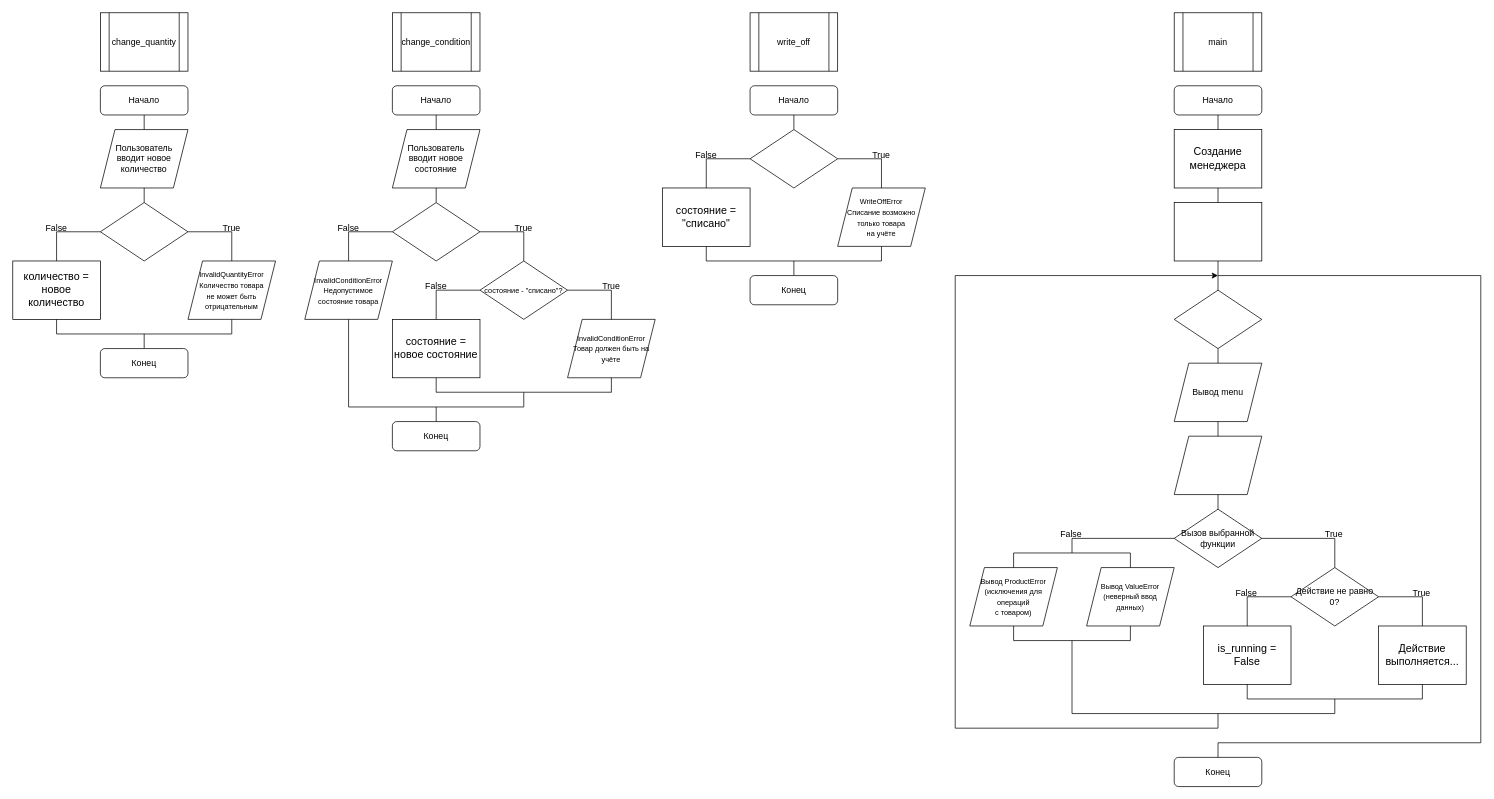
Image size: 1494x799. Some labels were removed from this diagram. The box of each missing label's shape, as (x1, y1, x2, y2) in pixels:
новое количество меньше 0?: (100, 202, 188, 261)
Новое состояние в допустимых состояниях?: (392, 202, 480, 261)
Пока is_running = True: (1173, 289, 1262, 349)
Пользователь выбирает действие: (1173, 435, 1262, 495)
Состояние НЕ "принято к учёту"?: (749, 129, 838, 188)
флаг is_running = True: (1173, 202, 1262, 261)
